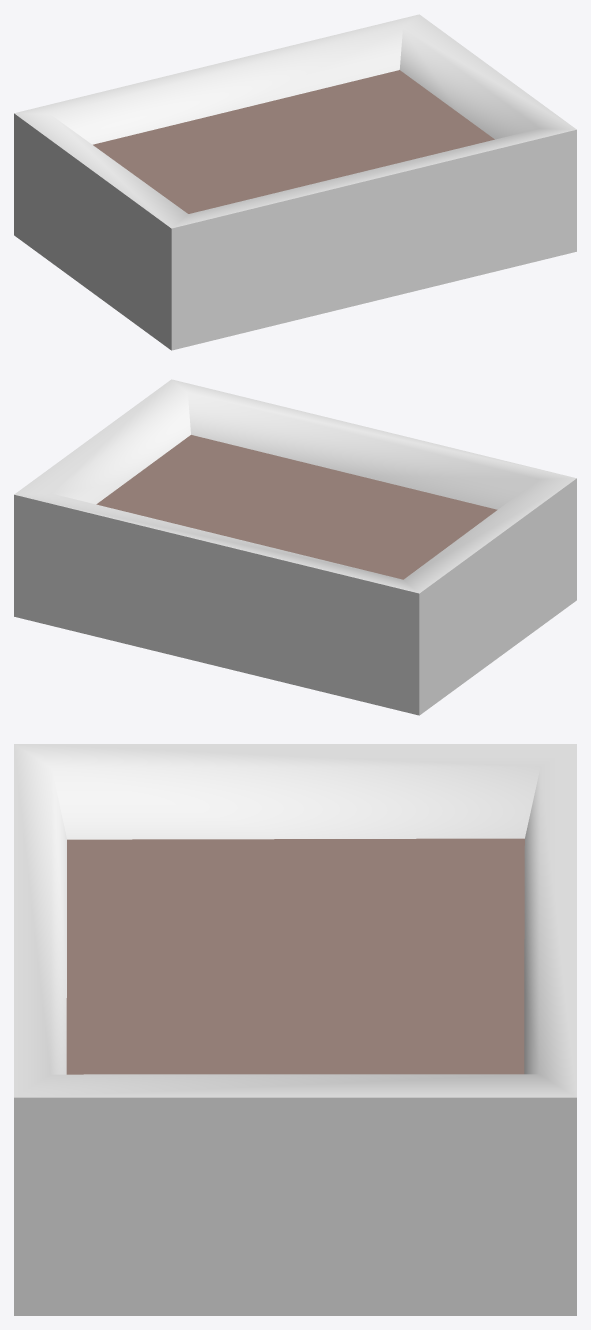
File: flowerpot_006.fbx
3 views of the same model, one above another, from view 1: azimuth 30°, elevation 25°; view 2: azimuth 150°, elevation 25°; view 3: azimuth 270°, elevation 25° (orthographic). The views are drawn at different scales.
Visible parts, largest first — view 1: flowerpot_006; view 2: flowerpot_006; view 3: flowerpot_006.
Boxes of the visible parts, x1,y1,x2,y2 form: flowerpot_006: (14, 14, 576, 350); flowerpot_006: (14, 379, 576, 715); flowerpot_006: (14, 744, 576, 1315).
Bounding box in the file's own units: 41.62 × 28.01 × 11.97.
